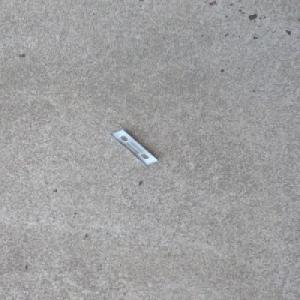ClampPart: (108, 128, 160, 166)
